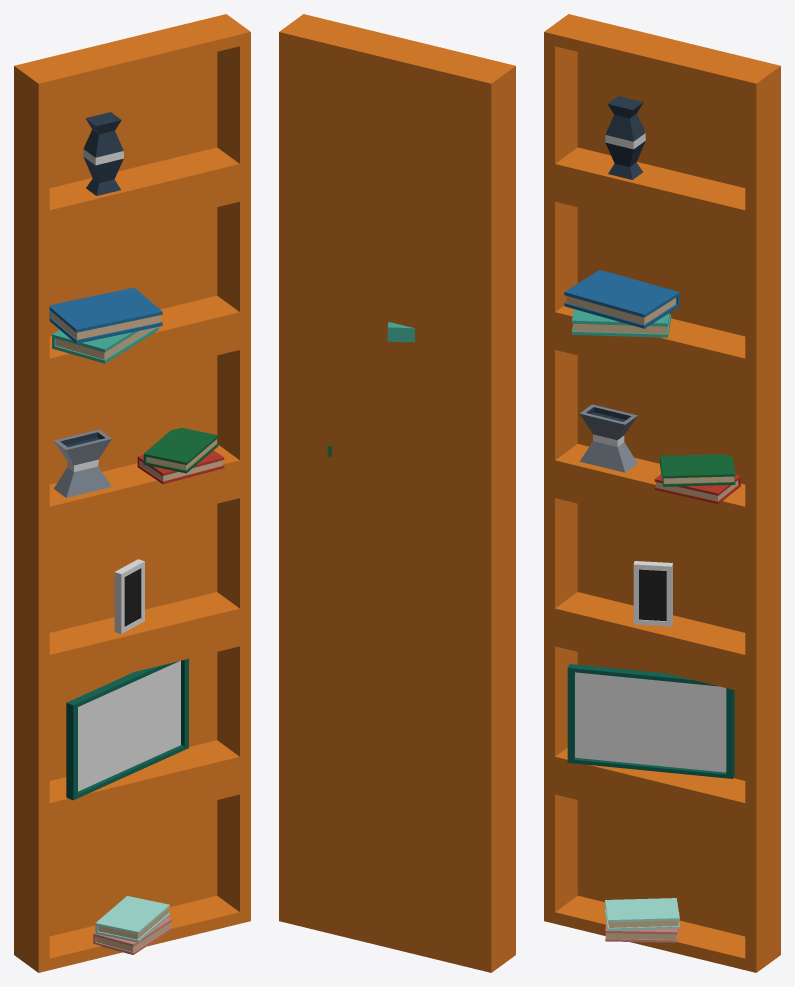
Rendered from Shelf.fbx.
3 views of the same model, side by side, from view 1: azimuth 30°, elevation 25°; view 2: azimuth 150°, elevation 25°; view 3: azimuth 330°, elevation 25° (orthographic).
Visible parts, largest first — view 1: Shelf-3, Screen, Book-1, Trinket-2, Trinket-1, Book-3, Book-5, Tablet-Computer, Book-2, Book-4, Book-6; view 2: Shelf-3; view 3: Shelf-3, Screen, Book-1, Trinket-2, Tablet-Computer, Trinket-1, Book-3, Book-5, Book-2, Book-4, Book-6.
Boxes of the visible parts, x1,y1,x2,y2 form: Shelf-3: (14,14,250,972); Screen: (66,659,188,800); Book-1: (49,287,162,343); Trinket-2: (53,429,111,497); Trinket-1: (83,112,123,195); Book-3: (143,428,218,473); Book-5: (95,896,169,942); Tablet-Computer: (114,559,144,633); Book-2: (52,327,158,363); Book-4: (137,450,224,484); Book-6: (93,917,172,954); Shelf-3: (279,14,515,972); Shelf-3: (544,14,780,972); Screen: (567,664,734,778); Book-1: (564,270,679,328); Trinket-2: (579,404,637,472); Tablet-Computer: (633,561,672,626); Trinket-1: (605,96,645,179); Book-3: (660,454,735,486); Book-5: (605,898,679,930); Book-2: (572,309,670,337); Book-4: (654,474,740,504); Book-6: (605,912,679,942).
Size of the model in its own units: 0.8756 by 3.5 by 0.3552.
